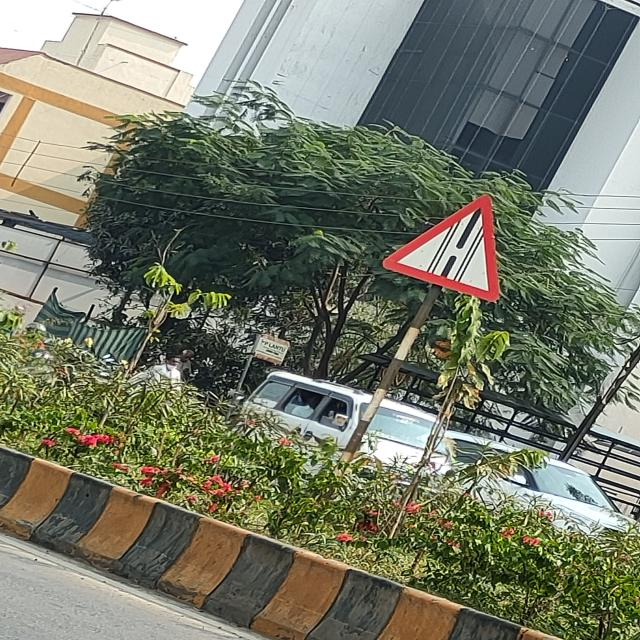ferry: (381, 194, 513, 302)
